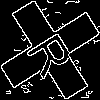R: (25, 25, 83, 80)
